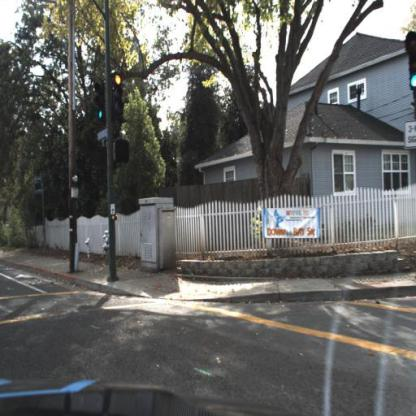trafficLight-Green: (406, 29, 416, 97), (94, 80, 105, 129)
trafficLight-Red: (111, 65, 128, 122)
